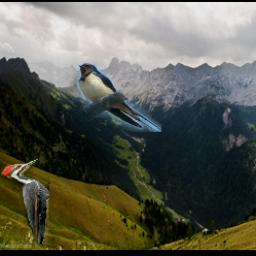Swallow: (77, 64, 161, 133)
Woodpecker: (2, 159, 50, 245)
